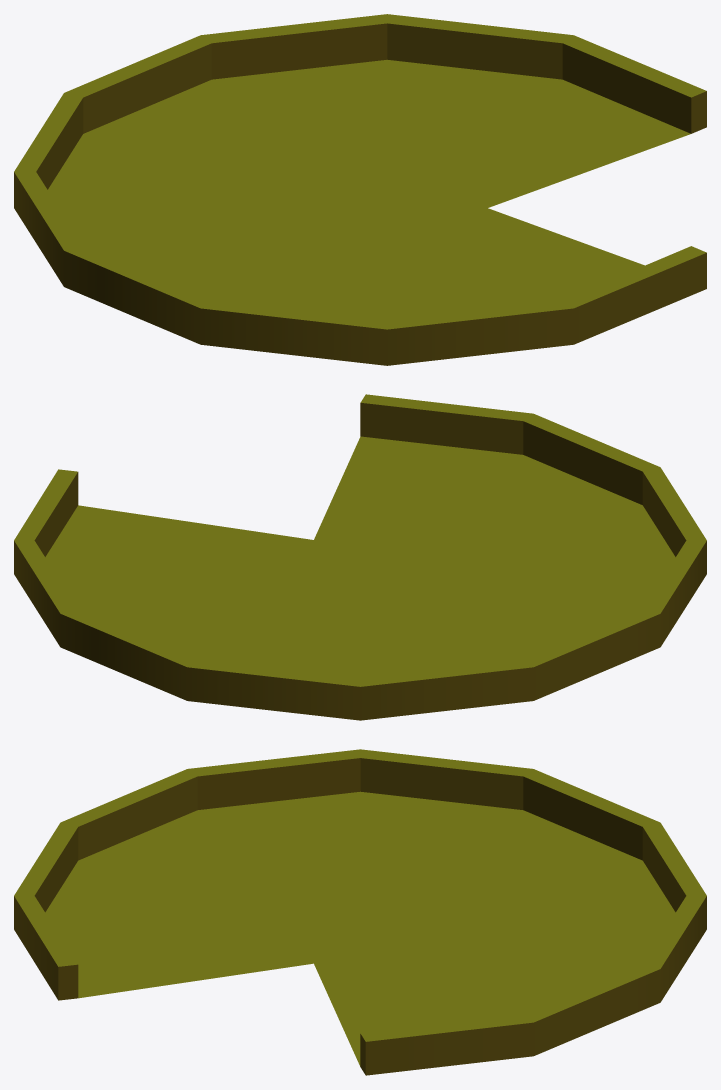
File: nenuphar.glb
3 views of the same model, one above another, from view 1: azimuth 30°, elevation 25°; view 2: azimuth 150°, elevation 25°; view 3: azimuth 270°, elevation 25° (orthographic). The views are drawn at different scales.
Visible parts, largest first — view 1: nenuphar; view 2: nenuphar; view 3: nenuphar.
Boxes of the visible parts, left/top/right/bottom form: nenuphar: left=14, top=14, right=706, bottom=365; nenuphar: left=14, top=394, right=706, bottom=720; nenuphar: left=14, top=749, right=706, bottom=1075.
Size of the model in its own units: 3.17 by 0.1706 by 3.18.
Materials: 1 (1 with a texture image).
